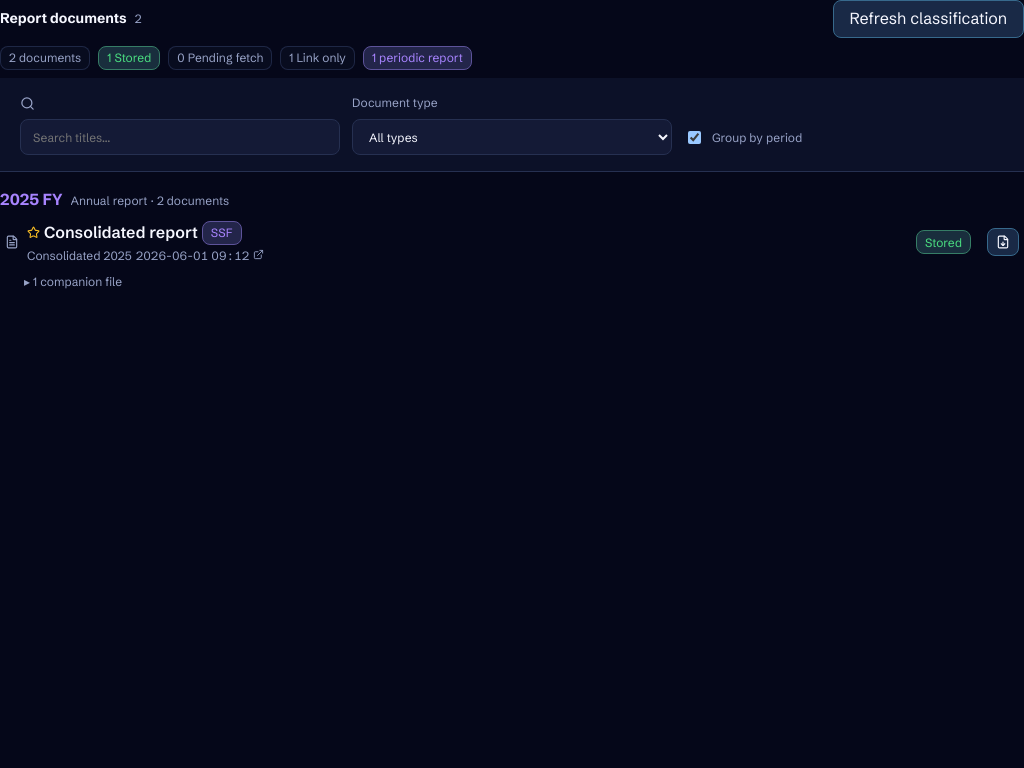
Test case: CompanyReportDocumentsPanel › folds companion files away and expands them on click
Expected: the text "Consolidated 2025" is shown, [27,247,132,264]
Expected: the text "signature.xades" is not shown
Step 1. Click the button "▸ 1 companion file" → click(61, 282), box [0,269,122,294]
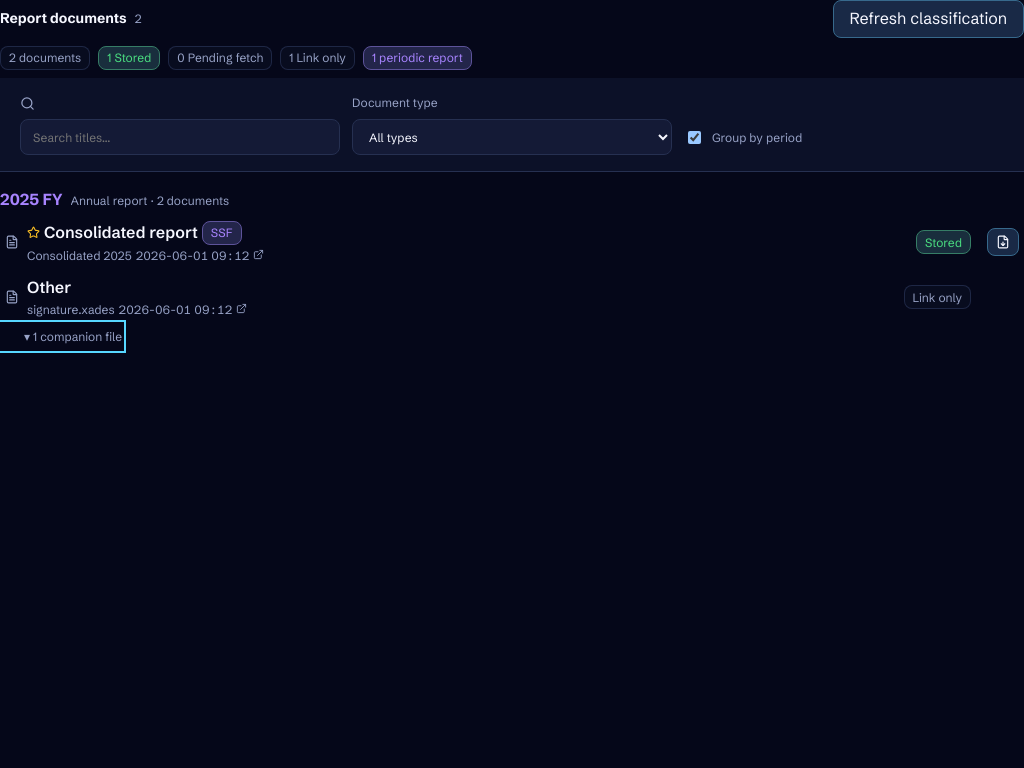
Now the text "signature.xades" is shown, box [27,301,115,319]
